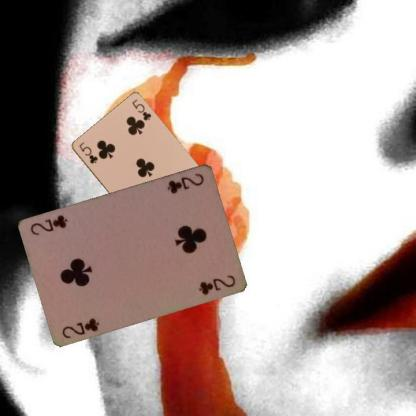2c: (58, 313, 102, 339), (164, 170, 206, 195)
5c: (76, 139, 99, 165)
